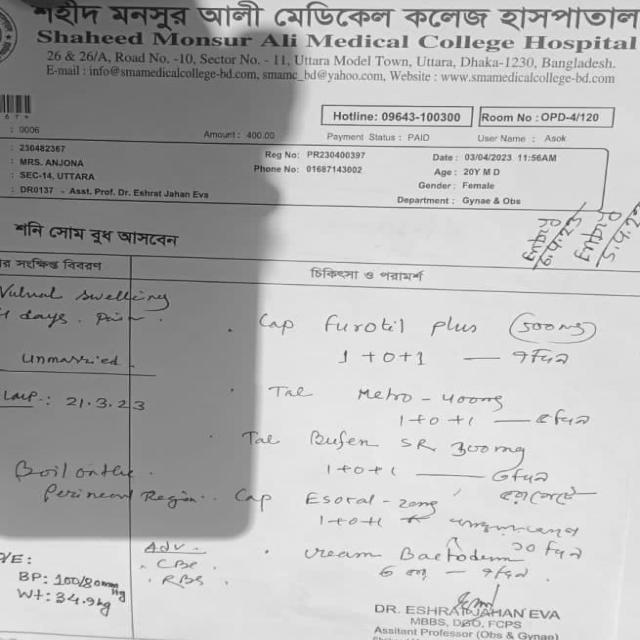medicine: (316, 308, 486, 339), (304, 426, 442, 460), (299, 488, 380, 510), (352, 382, 419, 406)
